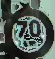Speed limit: (6, 6, 51, 58)
